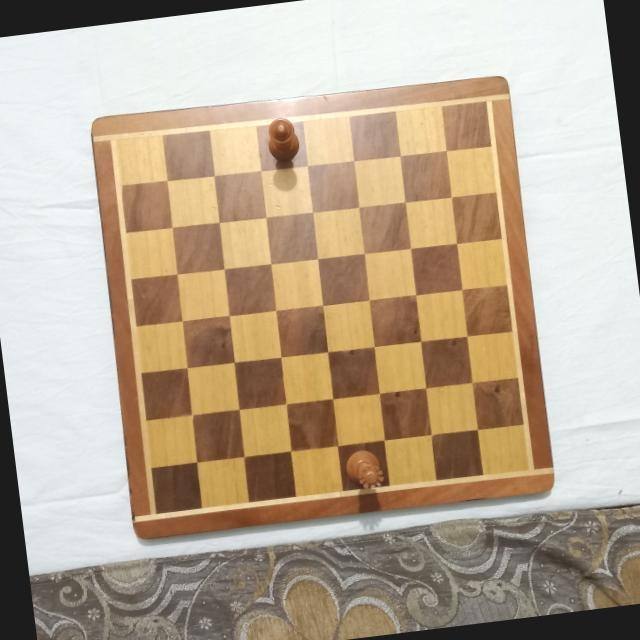white-king: (264, 113, 303, 163)
white-queen: (340, 446, 386, 496)
